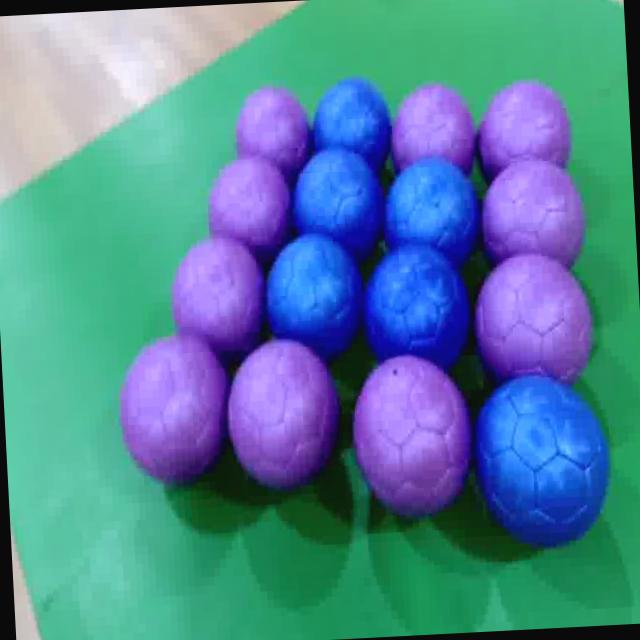blue_ball: (475, 368, 613, 542), (366, 240, 468, 365), (264, 231, 361, 348), (384, 156, 479, 264), (293, 147, 382, 252), (314, 76, 393, 175)
purple_ball: (350, 354, 474, 509), (225, 338, 342, 491), (474, 250, 596, 392), (116, 336, 232, 484), (481, 155, 586, 267), (170, 236, 268, 352), (475, 80, 574, 186), (206, 154, 296, 256), (390, 82, 478, 185), (235, 84, 315, 180)
